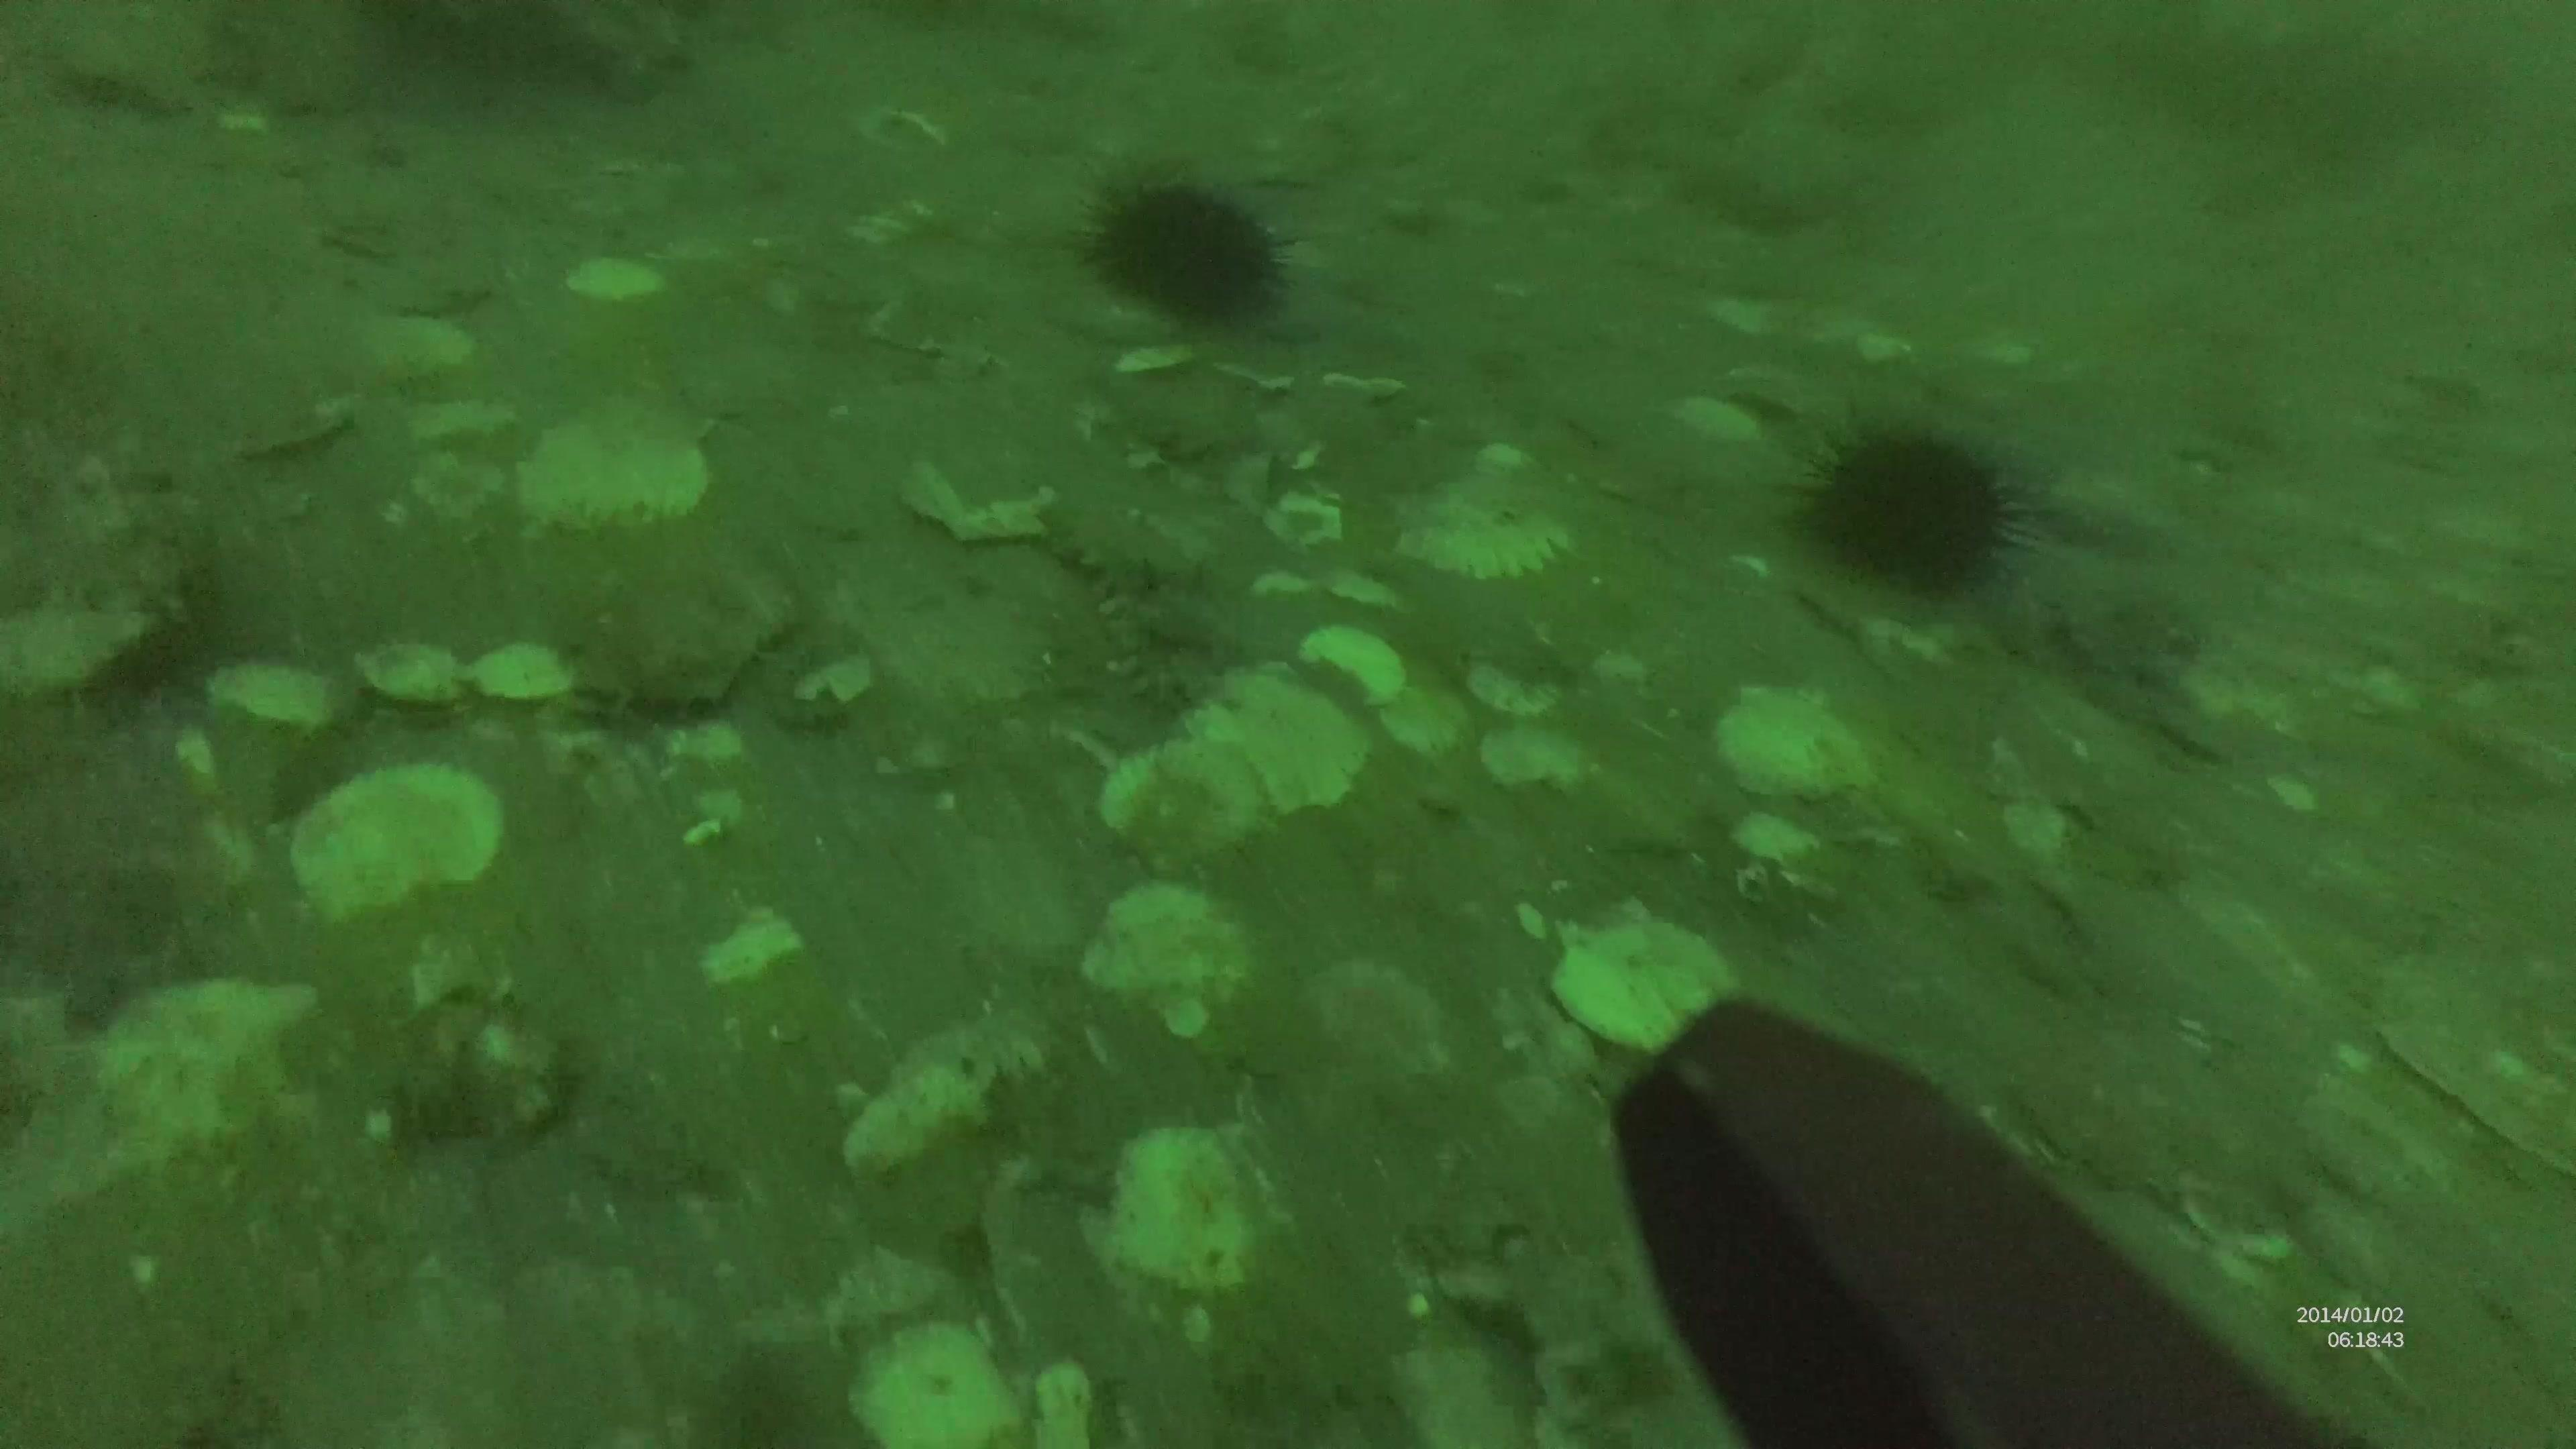echinus: (1798, 416, 2049, 594), (1070, 168, 1309, 327)
holothurian: (1056, 501, 1242, 717)
scallop: (290, 768, 508, 929), (522, 386, 736, 541), (1200, 672, 1371, 816), (1099, 738, 1276, 867), (1398, 465, 1578, 589)
